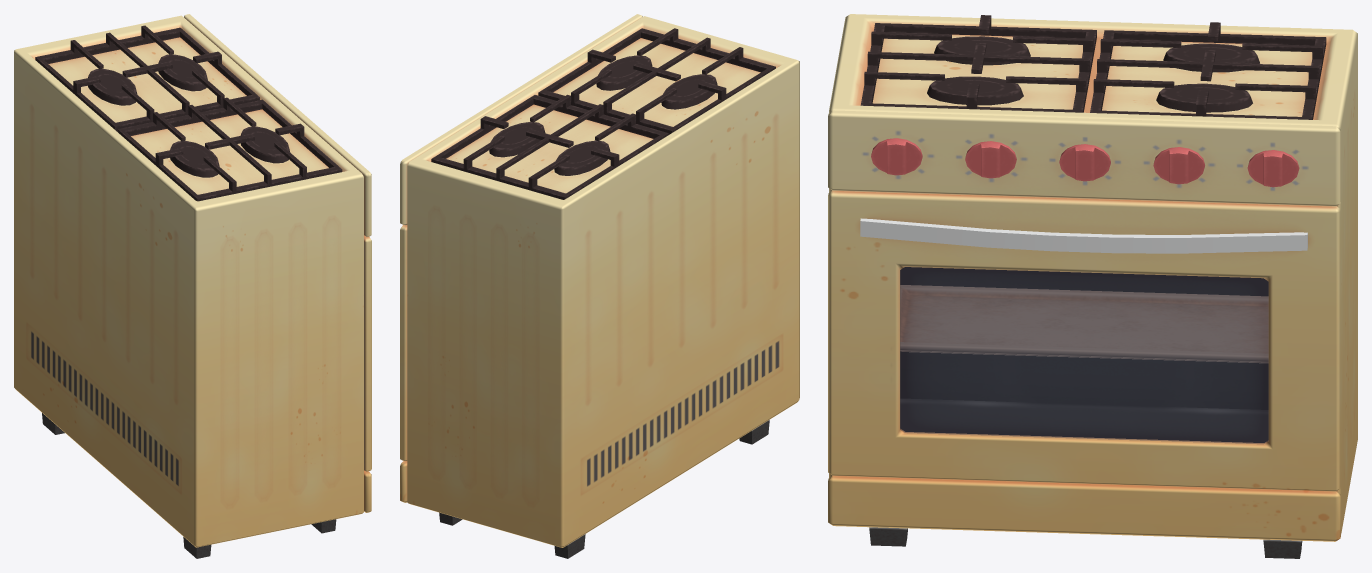
The model's file is coraline2.gltf.
3 renders of one model, left to right at view 1: azimuth 30°, elevation 25°; view 2: azimuth 150°, elevation 25°; view 3: azimuth 270°, elevation 25°, orthographic. The views are drawn at different scales.
Visible parts, largest first — view 1: Stove_base.003, Stove_grate.002, Stove_heaters.001, Stove_frontTop.001, Stove_door.003, Stove_legs.002; view 2: Stove_base.003, Stove_grate.002, Stove_heaters.001, Stove_frontTop.001, Stove_door.003, Stove_legs.002; view 3: Stove_door.003, Stove_base.003, Stove_glass.002, Stove_frontTop.001, Stove_frontBtm.001, Stove_baingPan.002, Stove_grate.002, Stove_handle.002, Stove_switches.002, Stove_heaters.001, Stove_legs.002.
Boxes of the visible parts, x1,y1,x2,y2 form: Stove_base.003: (14,15,363,547); Stove_grate.002: (35,25,342,201); Stove_heaters.001: (88,54,289,177); Stove_frontTop.001: (184,14,371,237); Stove_door.003: (364,236,371,471); Stove_legs.002: (42,413,336,558); Stove_base.003: (407,16,799,547); Stove_grate.002: (431,28,775,199); Stove_heaters.001: (489,55,717,175); Stove_frontTop.001: (400,14,642,225); Stove_door.003: (400,225,407,461); Stove_legs.002: (439,420,769,558); Stove_door.003: (828,191,1340,491); Stove_base.003: (829,14,1357,533); Stove_glass.002: (900,267,1268,443); Stove_frontTop.001: (828,110,1340,206); Stove_frontBtm.001: (828,476,1340,541); Stove_baingPan.002: (900,285,1268,363); Stove_grate.002: (860,15,1326,119); Stove_handle.002: (860,218,1307,253); Stove_switches.002: (871,138,1299,187); Stove_heaters.001: (927,36,1259,112); Stove_legs.002: (869,527,1302,558).
Size of the model in its own units: 7.4 by 13.06 by 13.84.
Materials: 1 (1 with a texture image).
